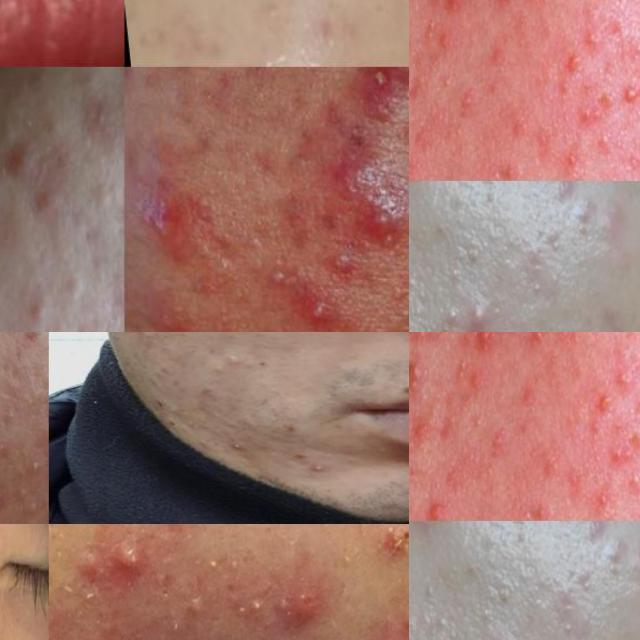acne_scars: (156, 10, 238, 67)
comedone: (454, 289, 498, 332), (203, 350, 250, 385), (536, 181, 574, 220), (566, 521, 604, 560), (60, 263, 94, 306), (197, 549, 233, 589), (432, 294, 464, 332), (409, 521, 446, 551), (261, 0, 295, 30), (21, 488, 49, 524), (242, 590, 266, 625), (24, 451, 48, 479), (110, 192, 124, 229), (7, 403, 23, 434)
papule: (265, 532, 345, 640), (142, 279, 208, 332), (331, 135, 391, 188), (561, 81, 608, 141), (592, 421, 639, 481), (101, 216, 124, 309), (72, 548, 102, 605), (423, 498, 454, 521), (409, 158, 423, 181)
pustule: (105, 528, 159, 598), (294, 289, 335, 327), (580, 380, 614, 422), (550, 40, 582, 82), (305, 458, 345, 490), (409, 352, 432, 405), (612, 73, 640, 115), (363, 67, 405, 92), (470, 332, 500, 362), (520, 332, 550, 355), (439, 0, 469, 22), (489, 0, 519, 15)
sebo-crystan-conglo: (131, 158, 193, 269), (358, 177, 409, 249), (266, 594, 338, 638), (258, 250, 303, 297), (370, 524, 409, 576)
